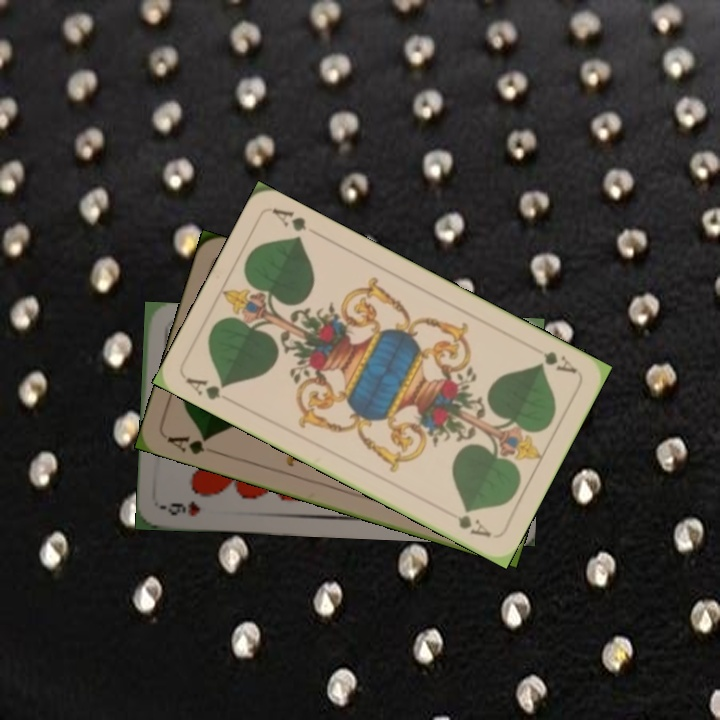GA: (526, 341, 580, 376), (181, 373, 229, 403), (163, 431, 212, 458)
H9: (161, 496, 203, 519)
